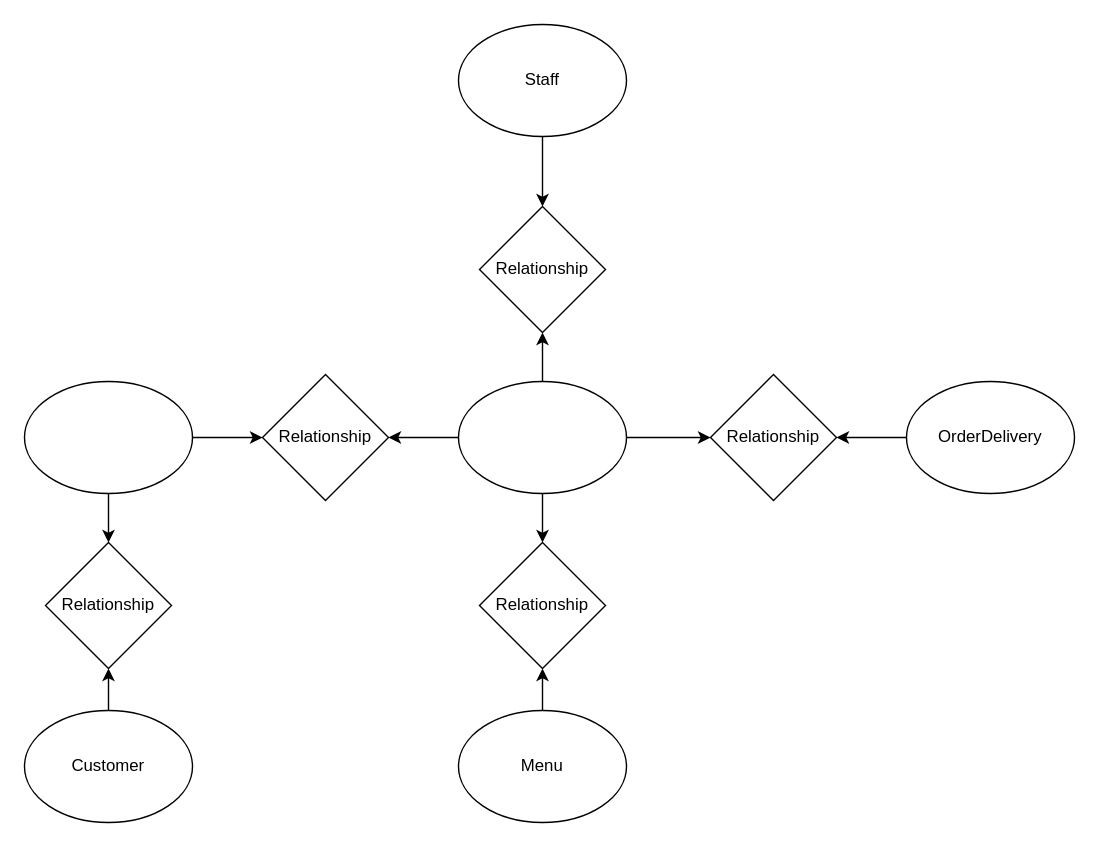
Image size: 1099x847. Some labels were removed from this diagram. The box of each missing label's shape, as (x1, y1, x2, y2) in pixels:
Bookings: (23, 380, 192, 493)
Orders: (457, 380, 626, 493)
